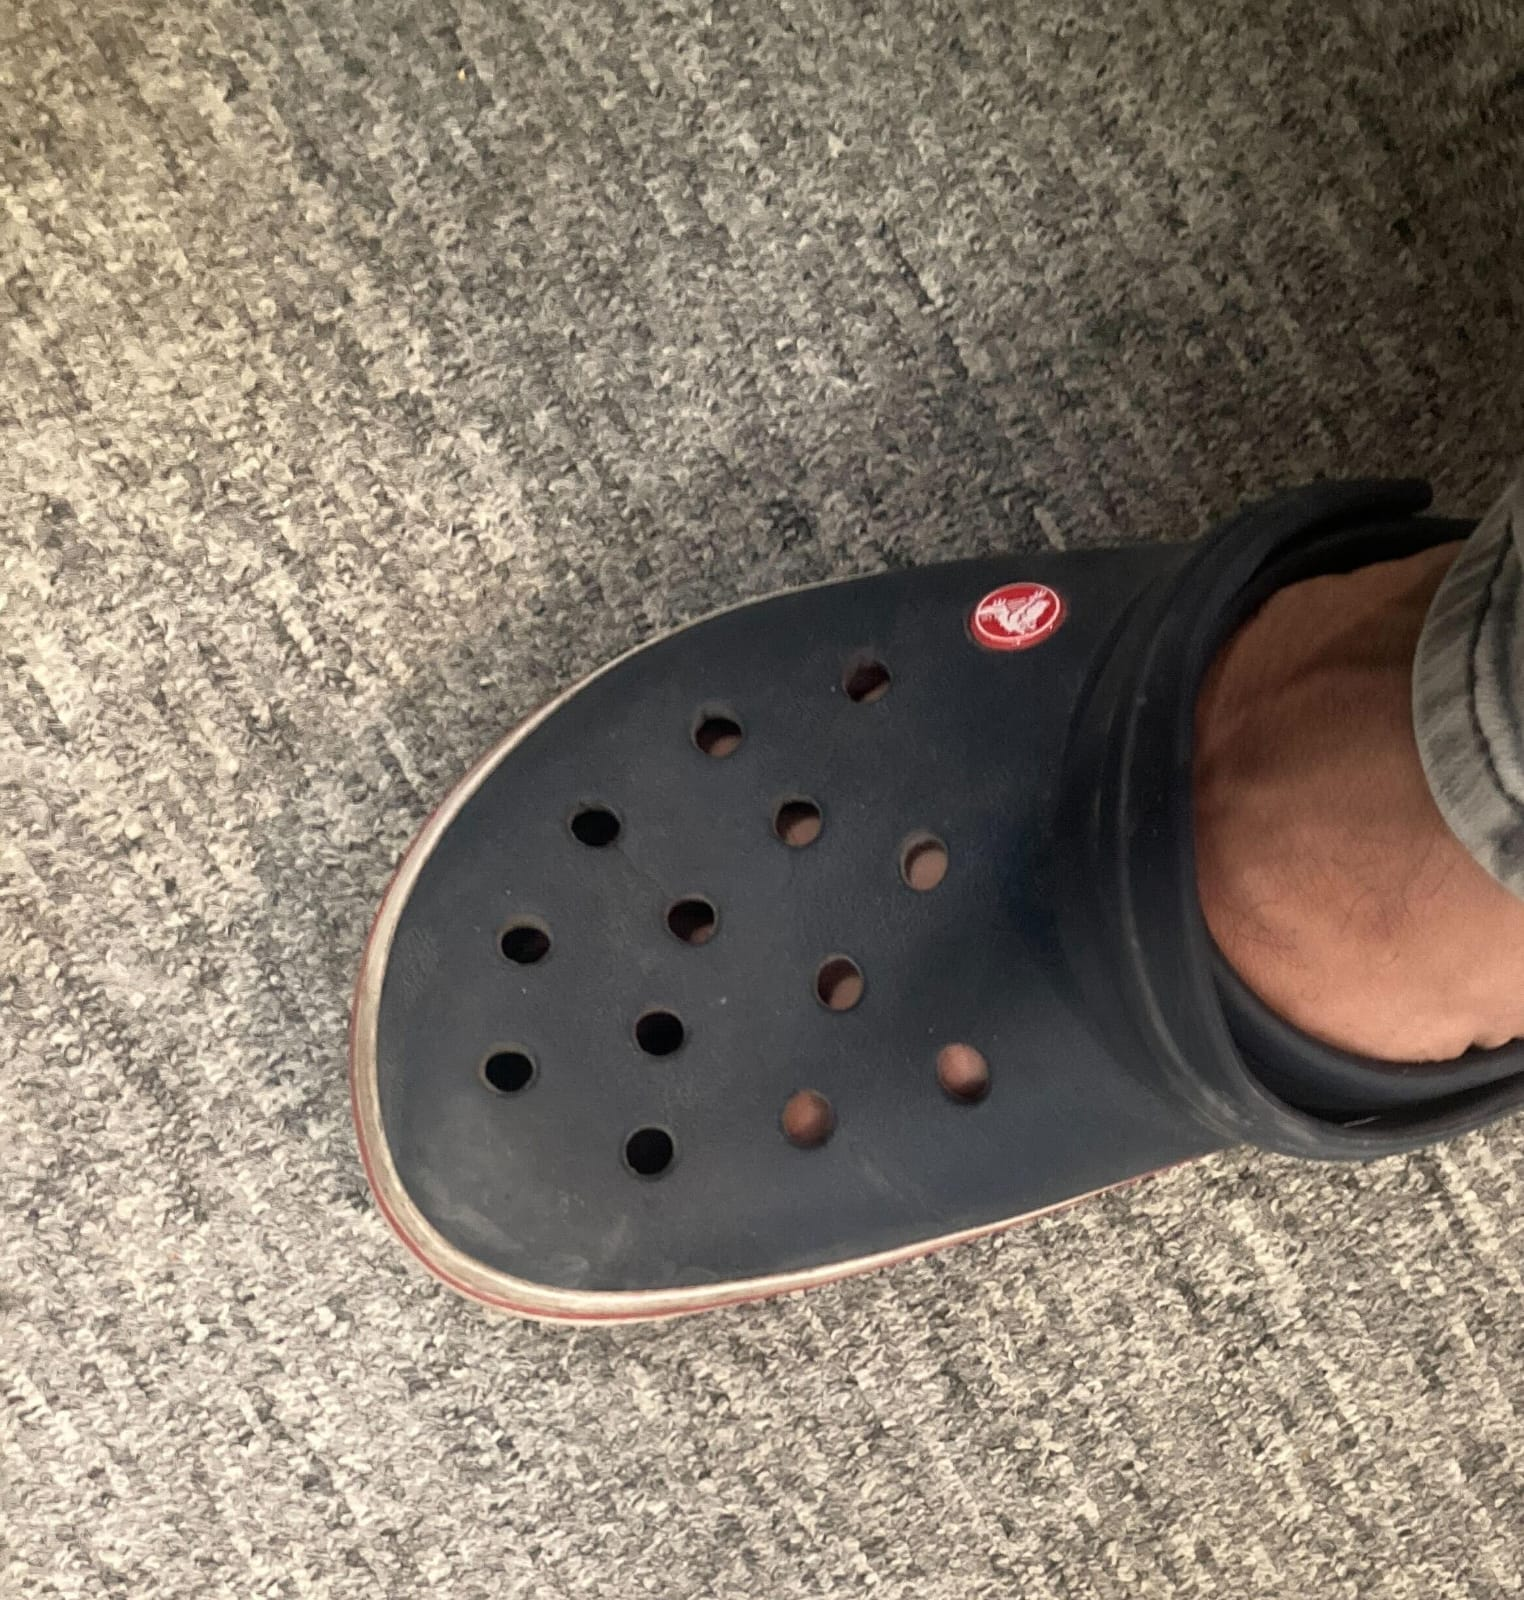Footwear: (290, 451, 1515, 1363)
